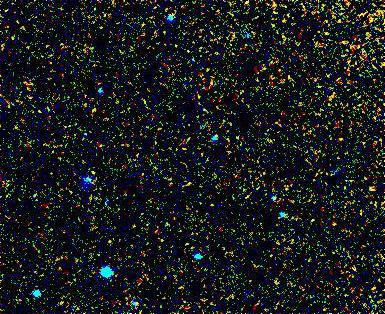star: (357, 175, 385, 205)
